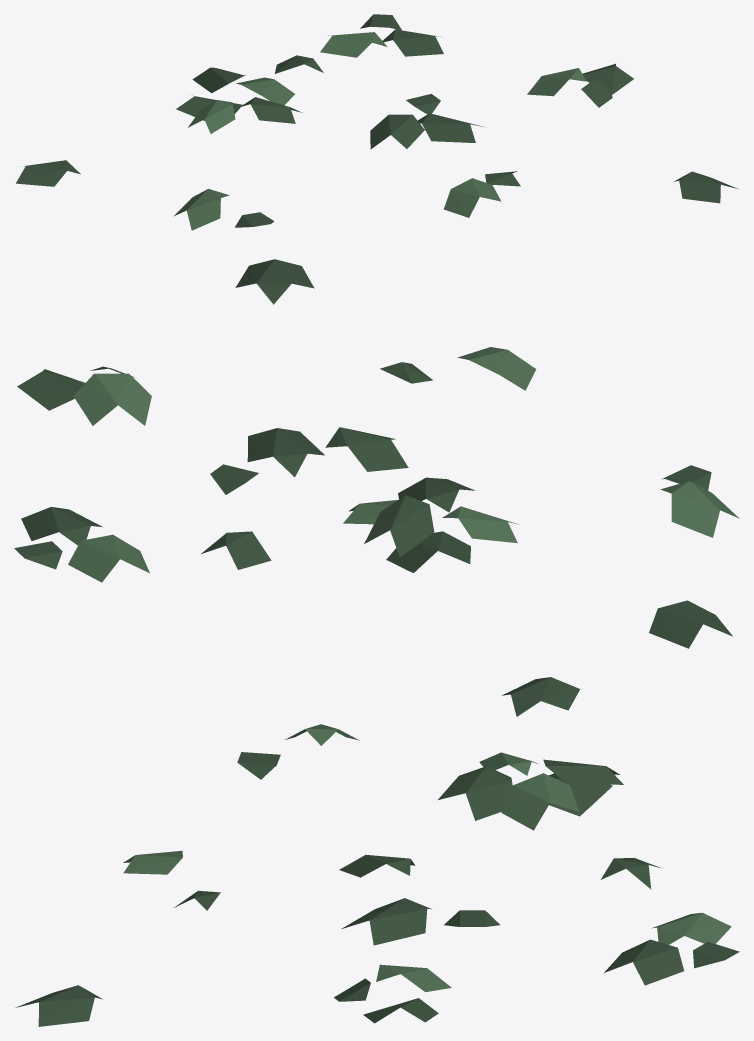
File: SM_Env_GroundLeaves_02.glb
3 views of the same model, one above another, from view 1: azimuth 30°, elevation 25°; view 2: azimuth 150°, elevation 25°; view 3: azimuth 270°, elevation 25° (orthographic). The views are drawn at different scales.
Parts seen in each view (by area): view 1: SM_Env_GroundLeaves_02_part00; view 2: SM_Env_GroundLeaves_02_part00; view 3: SM_Env_GroundLeaves_02_part00.
Boxes of the visible parts, x1=… form: SM_Env_GroundLeaves_02_part00: x1=16, y1=14, x2=738, y2=230; SM_Env_GroundLeaves_02_part00: x1=14, y1=259, x2=739, y2=648; SM_Env_GroundLeaves_02_part00: x1=15, y1=677, x2=739, y2=1026.
Size of the model in its own units: 2.16 by 0.1847 by 1.83.
1 material, 1 textured.
